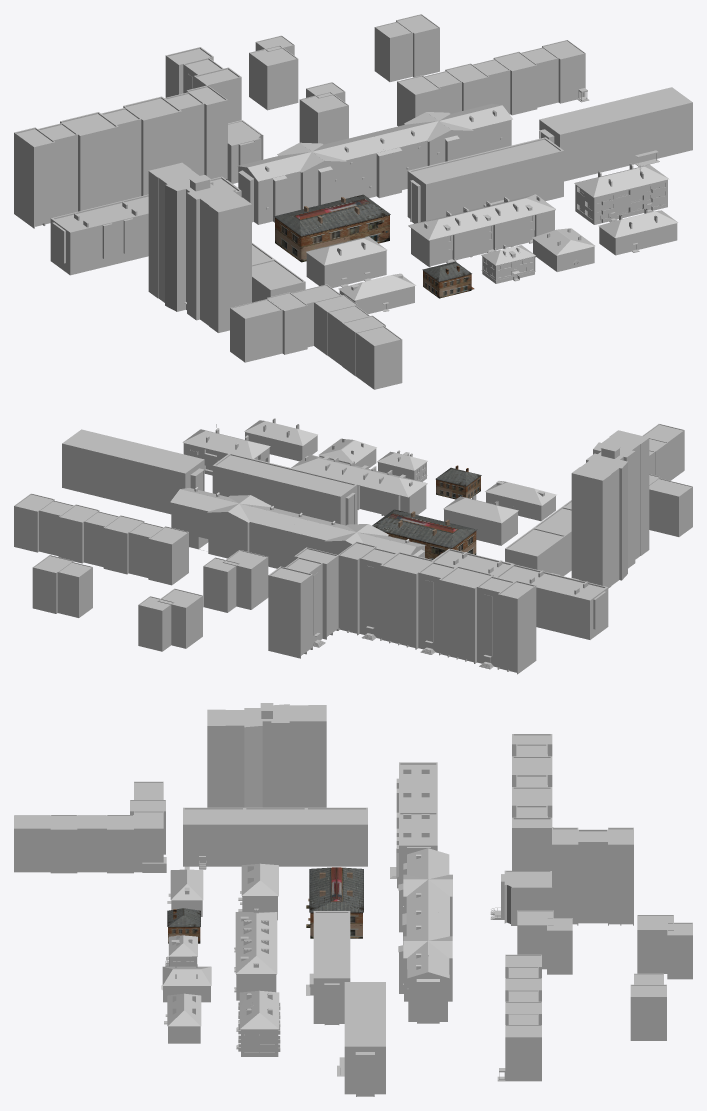
Rendered from pack-residential-buildings-from-2-to-14-floors.gltf.
3 renders of one model, top to bottom at view 1: azimuth 30°, elevation 25°; view 2: azimuth 150°, elevation 25°; view 3: azimuth 270°, elevation 25°, orthographic. The views are drawn at different scales.
Visible parts, largest first — view 1: Box001 (×9), Box010 (×3), Box039, Box002 (×2), Box009, Box02, Box01; view 2: Box001 (×9), Box010 (×3), Box039, Box002 (×2), Box009, Box02, Box01; view 3: Box001 (×9), Box010 (×3), Box039, Box002 (×2), Box009, Box02, Box01.
Boxes of the visible parts, bbox=[...] form: Box001 (×9): bbox=[148, 14, 678, 389]; Box010 (×3): bbox=[14, 47, 692, 287]; Box039: bbox=[237, 104, 512, 224]; Box002 (×2): bbox=[50, 176, 535, 283]; Box009: bbox=[408, 194, 555, 267]; Box02: bbox=[274, 194, 390, 262]; Box01: bbox=[422, 261, 474, 298]; Box001 (×9): bbox=[14, 418, 692, 651]; Box010 (×3): bbox=[62, 429, 536, 674]; Box039: bbox=[170, 487, 425, 568]; Box002 (×2): bbox=[377, 450, 608, 639]; Box009: bbox=[291, 454, 427, 515]; Box02: bbox=[372, 509, 477, 559]; Box01: bbox=[435, 465, 481, 499]; Box001 (×9): bbox=[14, 703, 692, 1081]; Box010 (×3): bbox=[238, 734, 633, 1096]; Box039: bbox=[398, 848, 452, 1023]; Box002 (×2): bbox=[165, 762, 437, 966]; Box009: bbox=[234, 908, 277, 1000]; Box02: bbox=[306, 867, 363, 938]; Box01: bbox=[167, 908, 200, 943].
Bounding box in the file's own units: 225 × 46.11 × 220.
